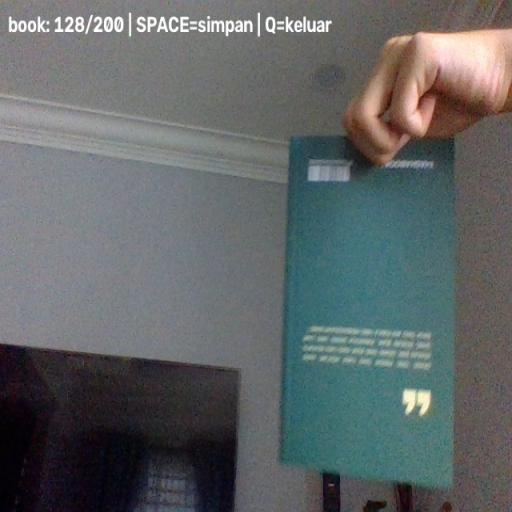Book: (279, 134, 458, 488)
